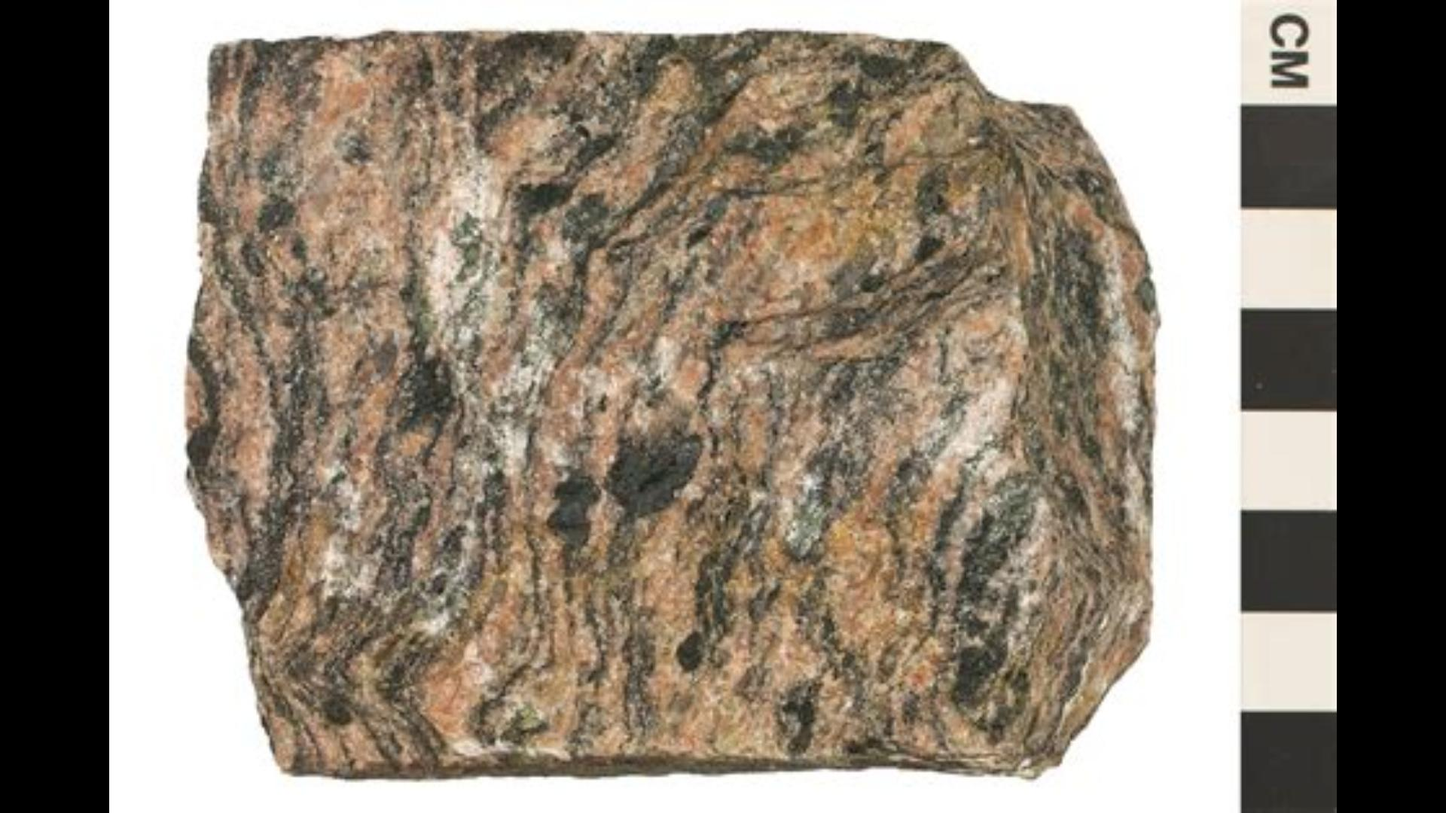rock: (190, 47, 1153, 774)
